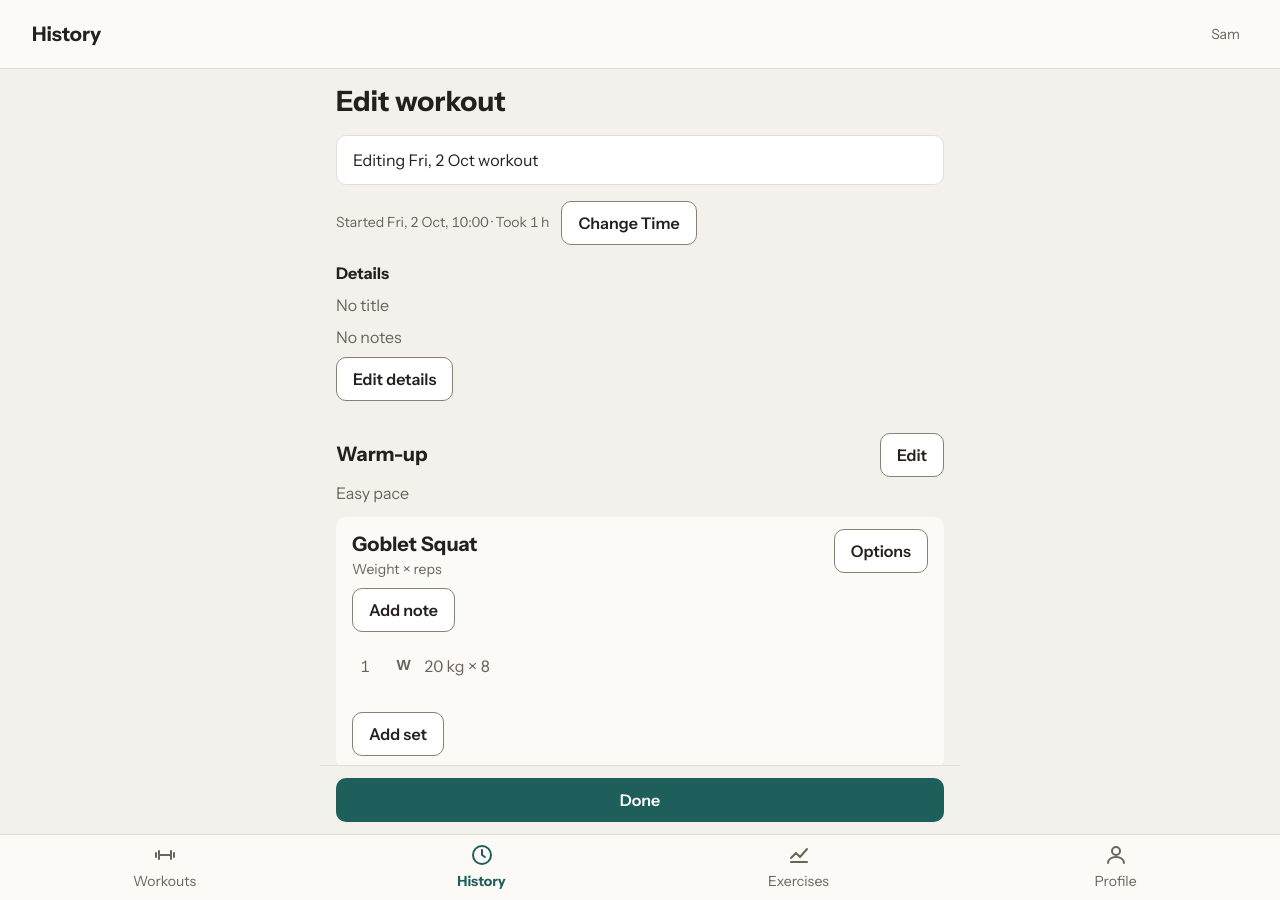
Test: 18.0 AC5 — the cards are those of the logging screen › sections with notes, superset brackets, target lines; each card's set rows read as on the summary
Check: the text "Easy pace" is shown, box [336,483,409,503]
Click the button "Done".
click(640, 800)  # box [336,778,944,822]
(page scrolled)
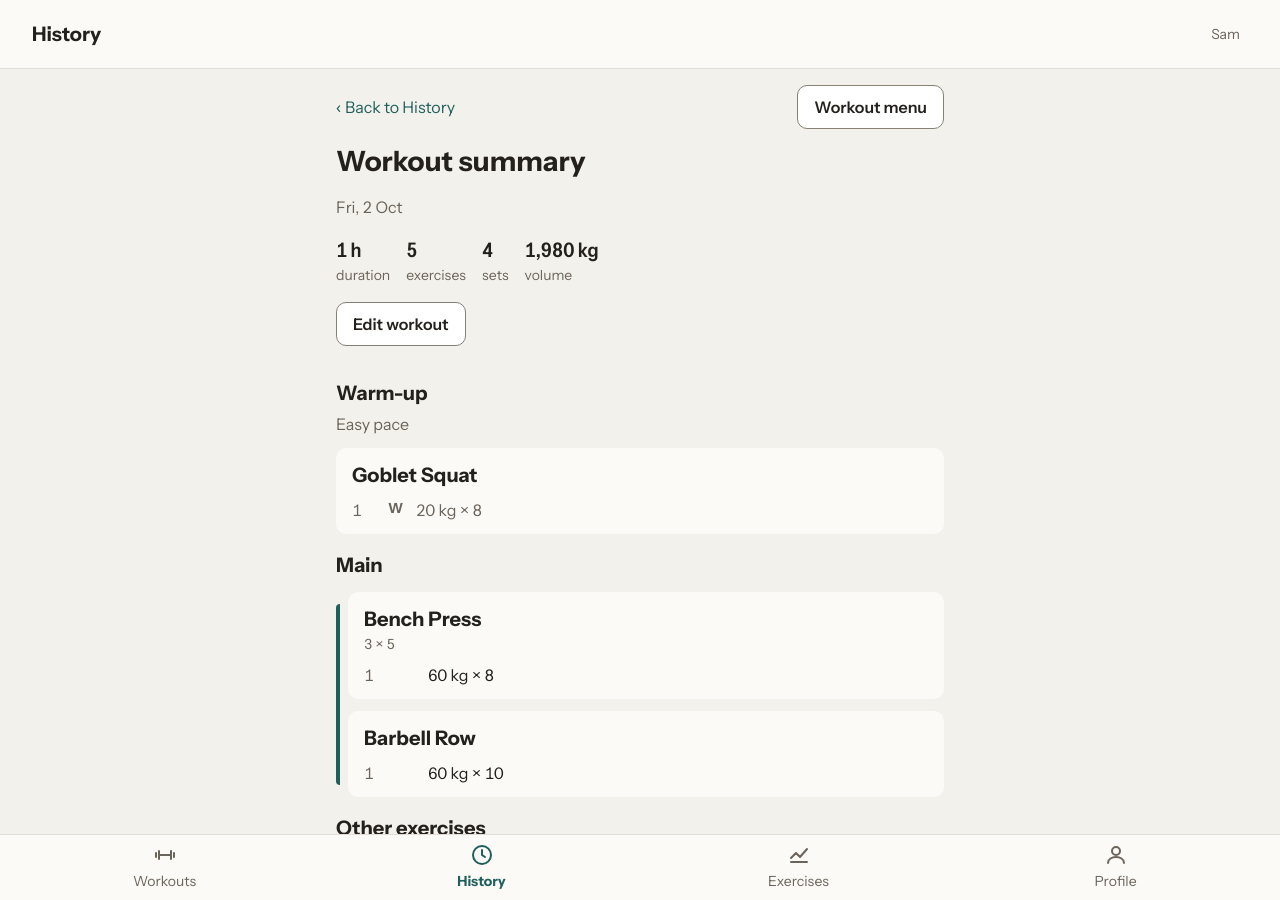
Check: the heading "Workout summary" is shown, box [336,144,585,178]
